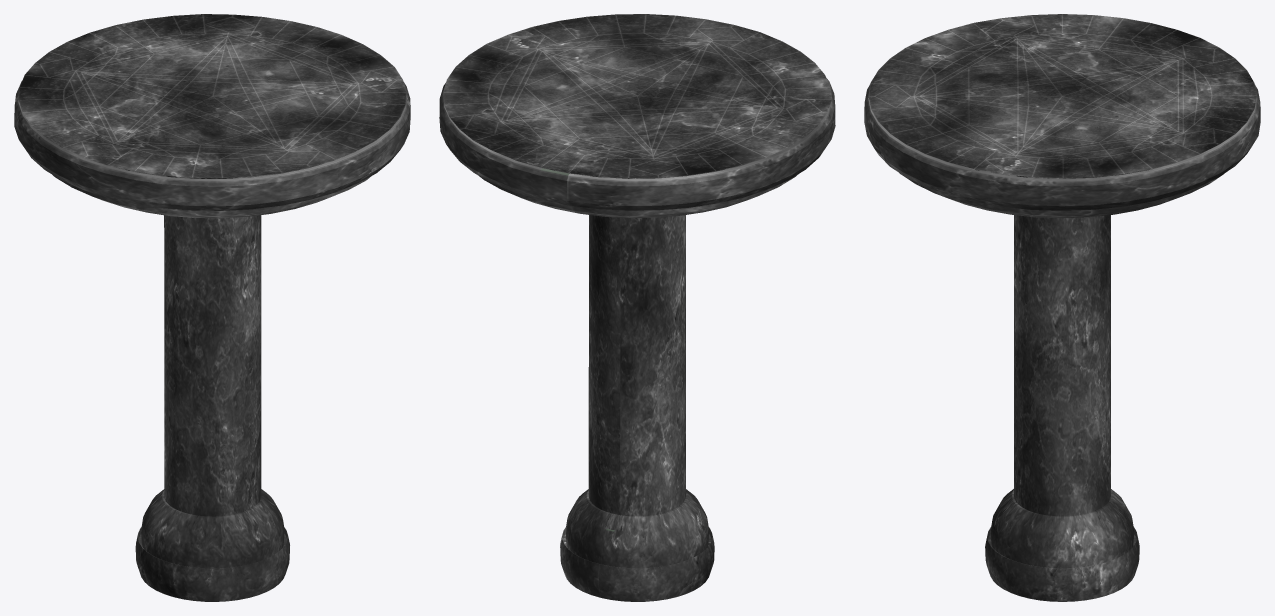
File: THEFALL.FBX
3 views of the same model, side by side, from view 1: azimuth 30°, elevation 25°; view 2: azimuth 150°, elevation 25°; view 3: azimuth 270°, elevation 25° (orthographic).
Parts seen in each view (by area): view 1: Top01, Pillar; view 2: Top01, Pillar; view 3: Top01, Pillar.
Part boxes in pixels (x1=…): Top01: x1=14, y1=81, x2=410, y2=601; Pillar: x1=18, y1=14, x2=406, y2=177; Top01: x1=439, y1=78, x2=835, y2=601; Pillar: x1=443, y1=14, x2=831, y2=177; Top01: x1=864, y1=84, x2=1260, y2=601; Pillar: x1=868, y1=14, x2=1256, y2=178.
Size of the model in its own units: 30.64 by 40.52 by 30.64.
Materials: 2 (2 with a texture image).
